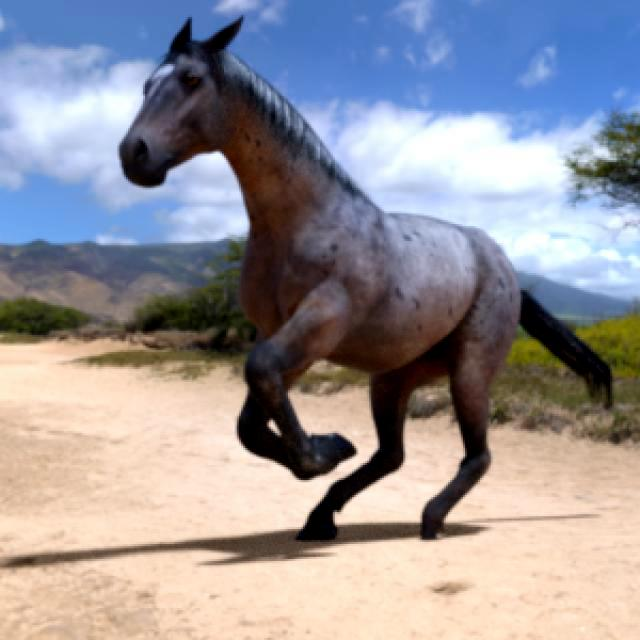horse: (120, 20, 610, 539)
